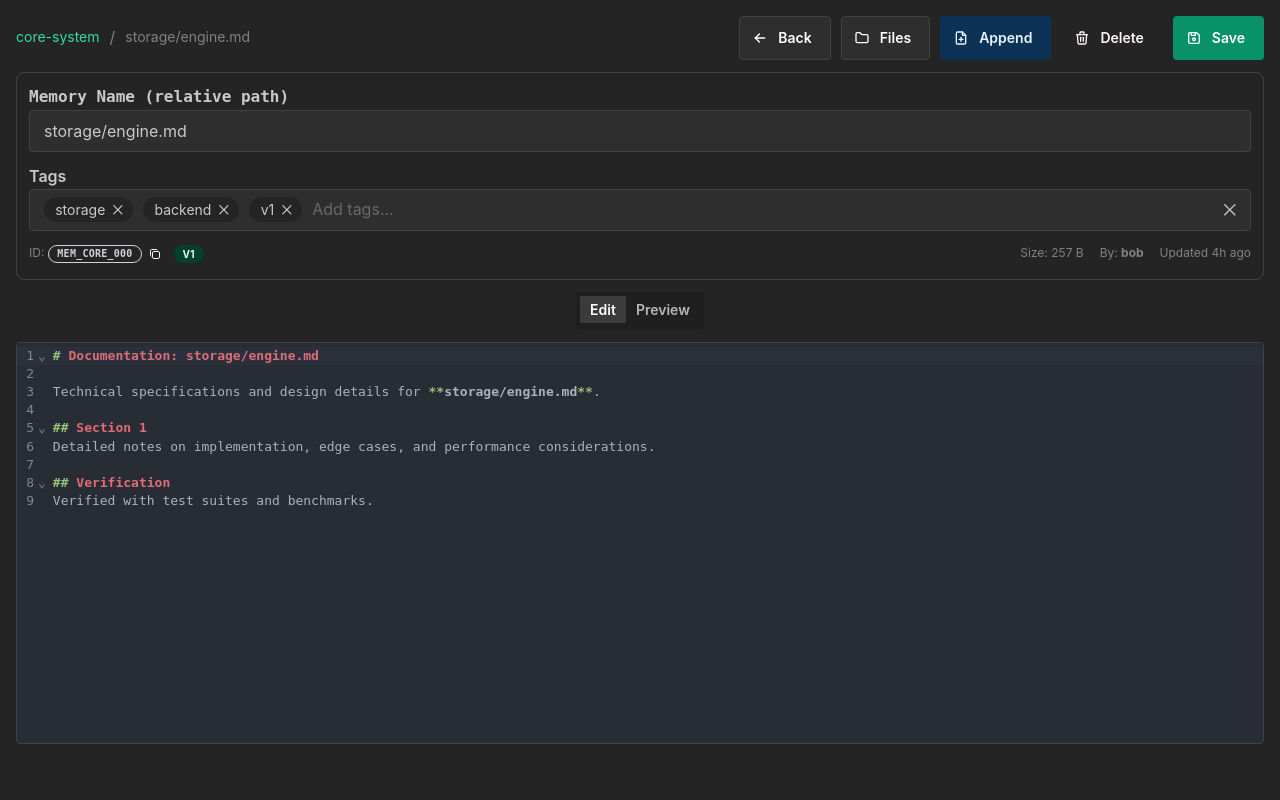
Memories Feature › Mobile Layout & Files Drawer › mobile editor renders Files button which opens drawer containing the memory panel
This screenshot has width=1280, height=800.
Expected: the field showing "storage/engine.md" is shown, top-left (29, 110), bottom-right (1251, 152)
Click Files to open drawer
Click the button "Files": (885, 38) top-left (841, 16), bottom-right (930, 60)
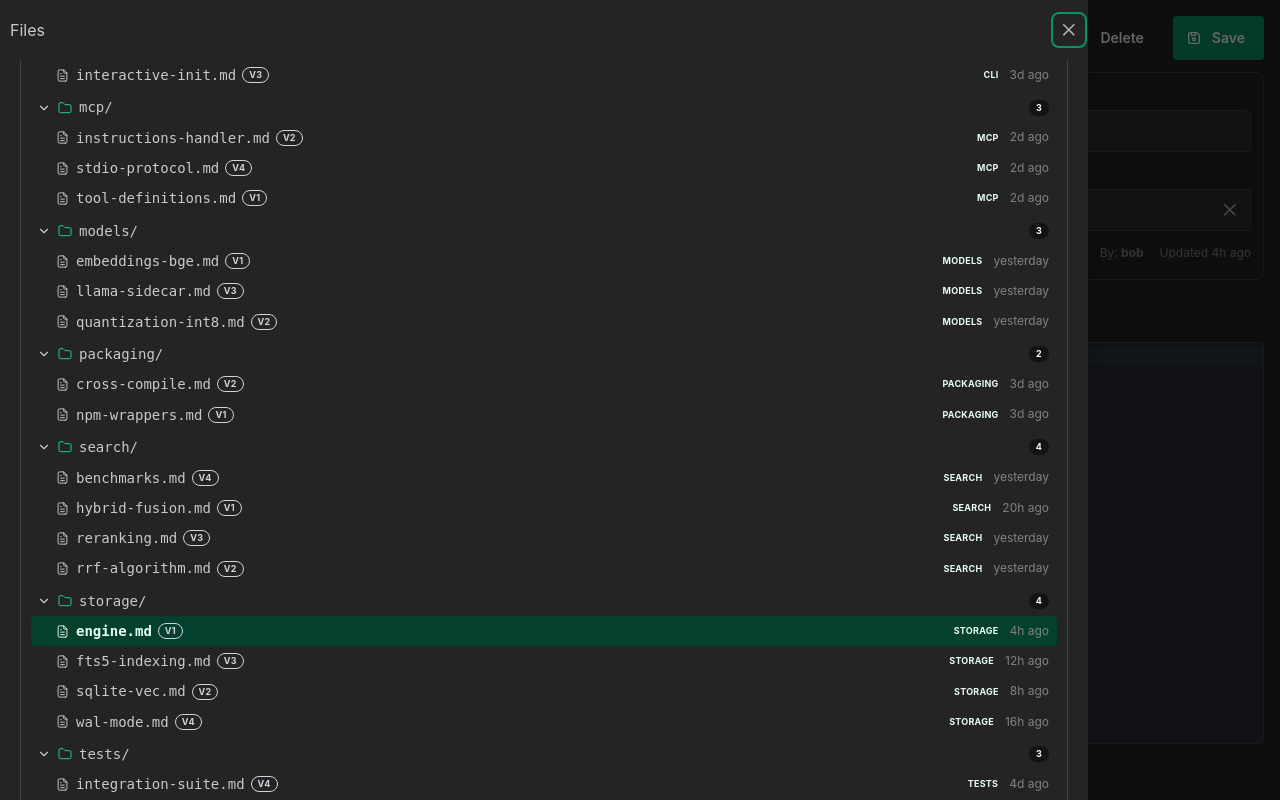
Expected: the dialog "Files" is shown
Expected: the text "storage/" is shown, top-left (79, 591), bottom-right (146, 611)
Expected: the text "engine.md" is shown, top-left (76, 621), bottom-right (152, 641)
